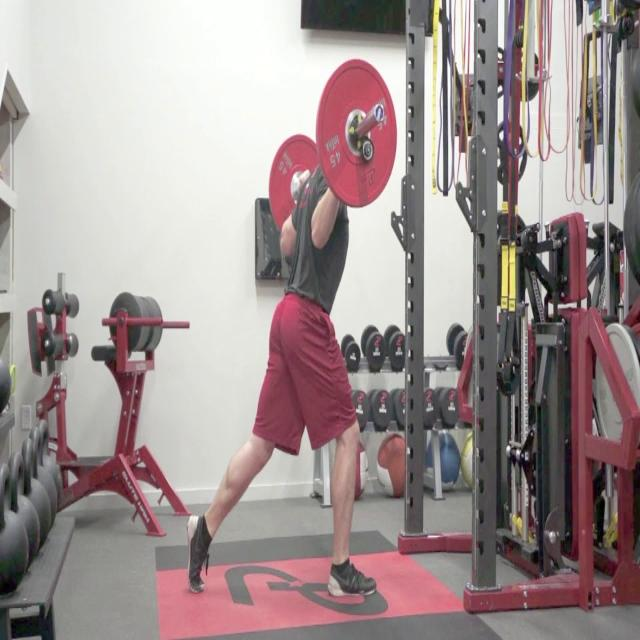squat: (182, 37, 400, 607)
